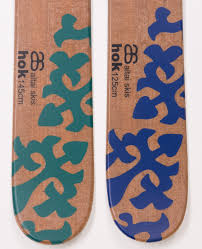skis: (12, 2, 190, 246)
